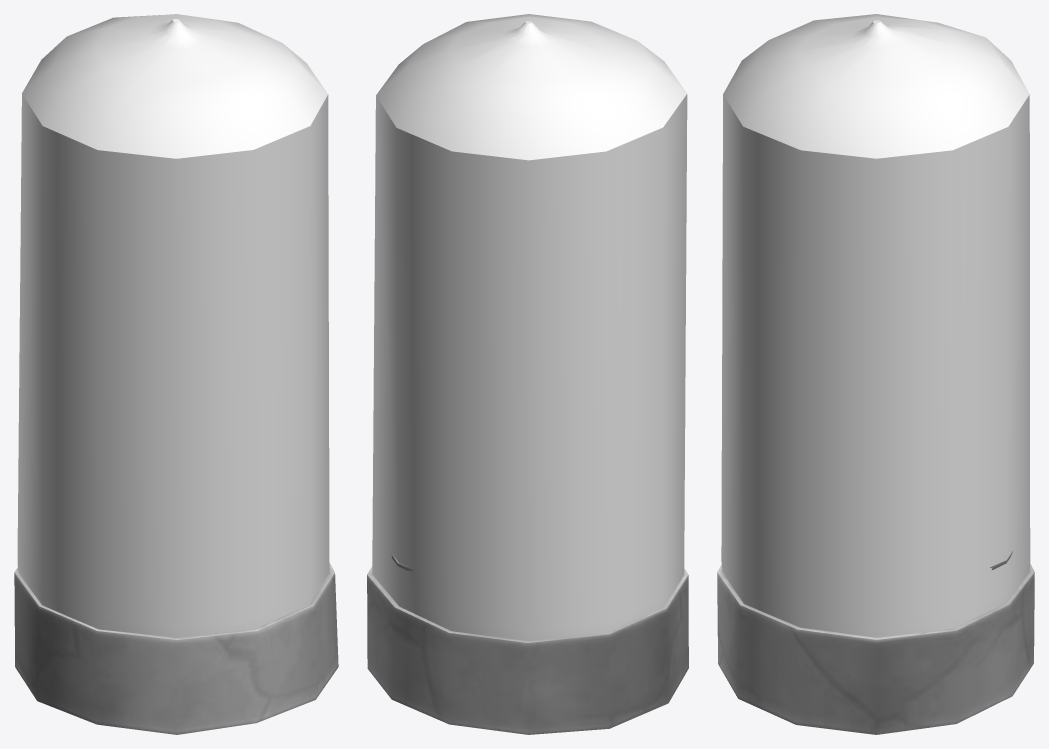
File: obj_num00_easy.gltf
The picture shows the model from 3 angles, left to right: view 1: azimuth 30°, elevation 25°; view 2: azimuth 150°, elevation 25°; view 3: azimuth 270°, elevation 25°; orthographic projection.
Visible parts, largest first — view 1: obj_num00_easy_glass, obj_num00_easy; view 2: obj_num00_easy_glass, obj_num00_easy; view 3: obj_num00_easy_glass, obj_num00_easy.
Part boxes in pixels (x1,y1,x2,y2): obj_num00_easy_glass: [17, 14, 329, 637]; obj_num00_easy: [14, 562, 338, 734]; obj_num00_easy_glass: [372, 14, 687, 641]; obj_num00_easy: [367, 553, 688, 734]; obj_num00_easy_glass: [721, 14, 1030, 637]; obj_num00_easy: [717, 551, 1034, 734].
Size of what is drawn, in the model's own units: 0.3243 by 0.7152 by 0.3192.
2 materials, 1 textured.
